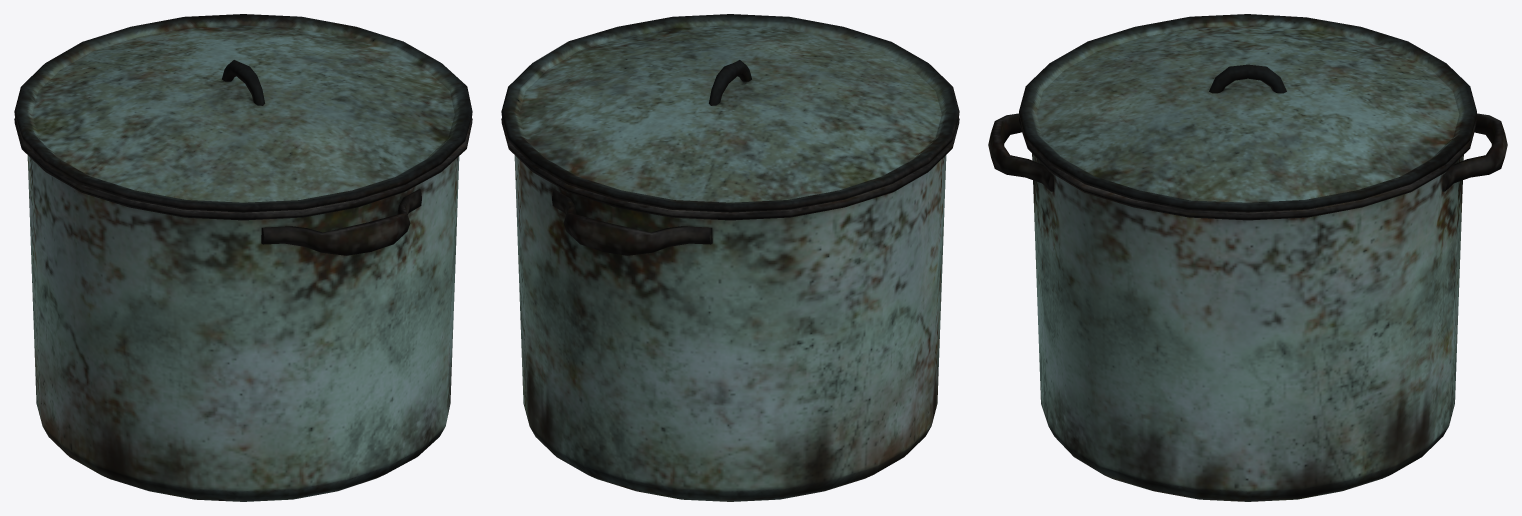
Rendered from UDKS_02.fbx.
The picture shows the model from 3 angles, left to right: view 1: azimuth 30°, elevation 25°; view 2: azimuth 150°, elevation 25°; view 3: azimuth 270°, elevation 25°; orthographic projection.
Parts seen in each view (by area): view 1: UDKS_02, Cap_02; view 2: UDKS_02, Cap_02; view 3: UDKS_02, Cap_02.
Part boxes in pixels (x1,y1,x2,y2): UDKS_02: (14, 117, 472, 501); Cap_02: (14, 14, 472, 212); UDKS_02: (501, 117, 959, 501); Cap_02: (501, 14, 959, 212); UDKS_02: (988, 113, 1507, 501); Cap_02: (1019, 14, 1476, 212).
Bounding box in the file's own units: 39.49 × 34.01 × 44.78.
1 material, 1 textured.
